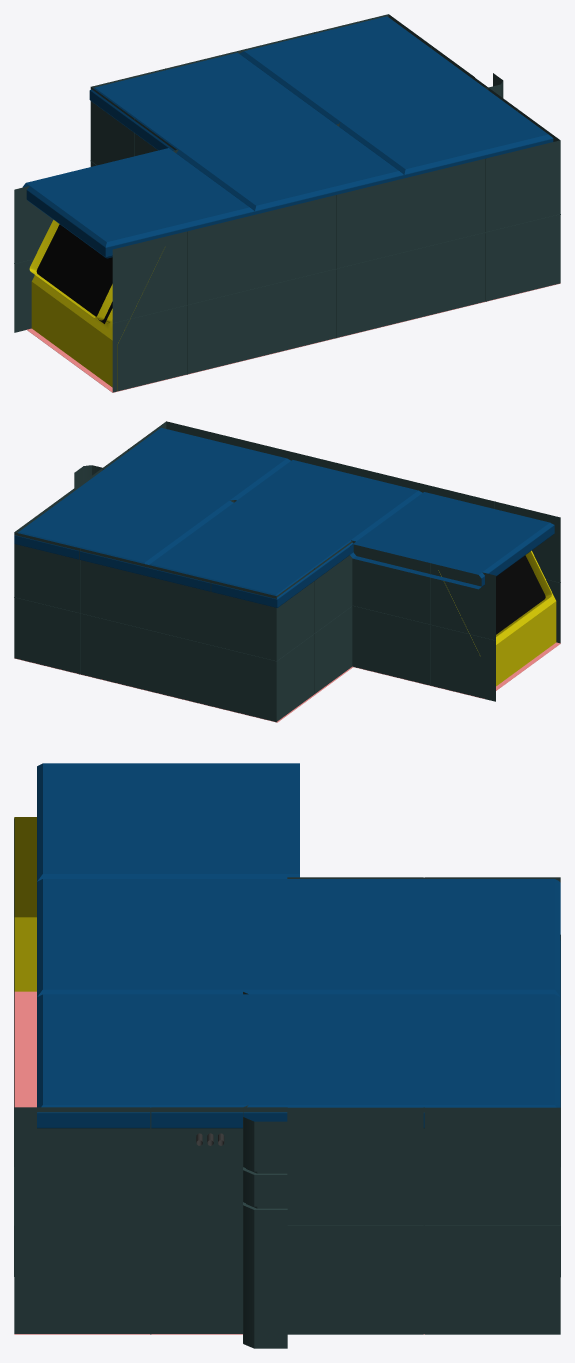
The model's file is Lab.fbx.
3 views of the same model, one above another, from view 1: azimuth 30°, elevation 25°; view 2: azimuth 150°, elevation 25°; view 3: azimuth 270°, elevation 25° (orthographic). The views are drawn at different scales.
Parts seen in each view (by area): view 1: PIllar_w_Wall10, PIllar_w_Wall12, PIllar_w_Wall11, RPanel5, RPanel1, RPanel2, RPanel4, RPanel3, Doorway, Window3, PIllar_w_Wall8, PIllar_w_Wall7 (+1 smaller); view 2: PIllar_w_Wall8, PIllar_w_Wall4, PIllar_w_Wall5, RPanel4, RPanel3, RPanel5, RPanel1, RPanel2, PIllar_w_Wall7, Doorway, PIllar_w_Wall12, Window3 (+4 smaller); view 3: PIllar_w_Wall6, PIllar_w_Wall9, RPanel2, RPanel1, RPanel5, RPanel4, RPanel3, PIllar_w_Wall1, Doorway, Floor6.
Boxes of the visible parts, x1=… form: PIllar_w_Wall10: x1=411, y1=140, x2=560, y2=319; PIllar_w_Wall12: x1=112, y1=213, x2=262, y2=392; PIllar_w_Wall11: x1=262, y1=177, x2=411, y2=355; RPanel5: x1=22, y1=148, x2=254, y2=258; RPanel1: x1=172, y1=112, x2=404, y2=214; RPanel2: x1=322, y1=75, x2=553, y2=178; RPanel4: x1=89, y1=52, x2=317, y2=150; RPanel3: x1=239, y1=16, x2=467, y2=113; Doorway: x1=29, y1=220, x2=160, y2=390; Window3: x1=36, y1=224, x2=112, y2=323; PIllar_w_Wall8: x1=14, y1=186, x2=53, y2=332; PIllar_w_Wall7: x1=91, y1=87, x2=176, y2=166; PIllar_w_Wall8: x1=364, y1=547, x2=495, y2=701; PIllar_w_Wall4: x1=145, y1=564, x2=276, y2=721; PIllar_w_Wall5: x1=14, y1=532, x2=145, y2=689; RPanel4: x1=146, y1=512, x2=350, y2=607; RPanel3: x1=14, y1=480, x2=217, y2=575; RPanel5: x1=350, y1=492, x2=554, y2=589; RPanel1: x1=222, y1=460, x2=422, y2=553; RPanel2: x1=90, y1=427, x2=290, y2=513; PIllar_w_Wall7: x1=276, y1=541, x2=352, y2=721; Doorway: x1=438, y1=550, x2=556, y2=686; PIllar_w_Wall12: x1=429, y1=485, x2=560, y2=643; Window3: x1=496, y1=555, x2=545, y2=634; PIllar_w_Wall6: x1=287, y1=1107, x2=560, y2=1334; PIllar_w_Wall9: x1=14, y1=1107, x2=287, y2=1334; RPanel2: x1=37, y1=994, x2=299, y2=1128; RPanel1: x1=37, y1=879, x2=299, y2=996; RPanel5: x1=37, y1=763, x2=299, y2=881; RPanel4: x1=298, y1=879, x2=560, y2=996; RPanel3: x1=298, y1=994, x2=560, y2=1128; PIllar_w_Wall1: x1=243, y1=1105, x2=287, y2=1348; Doorway: x1=14, y1=817, x2=36, y2=991; Floor6: x1=14, y1=991, x2=36, y2=1103.
Bounding box in the file's own units: 3846 × 1100 × 2402.
